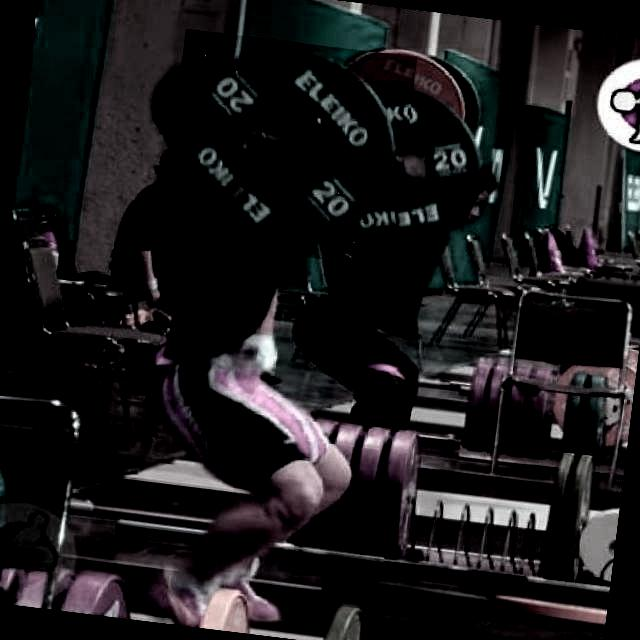barbell: (161, 30, 417, 271)
